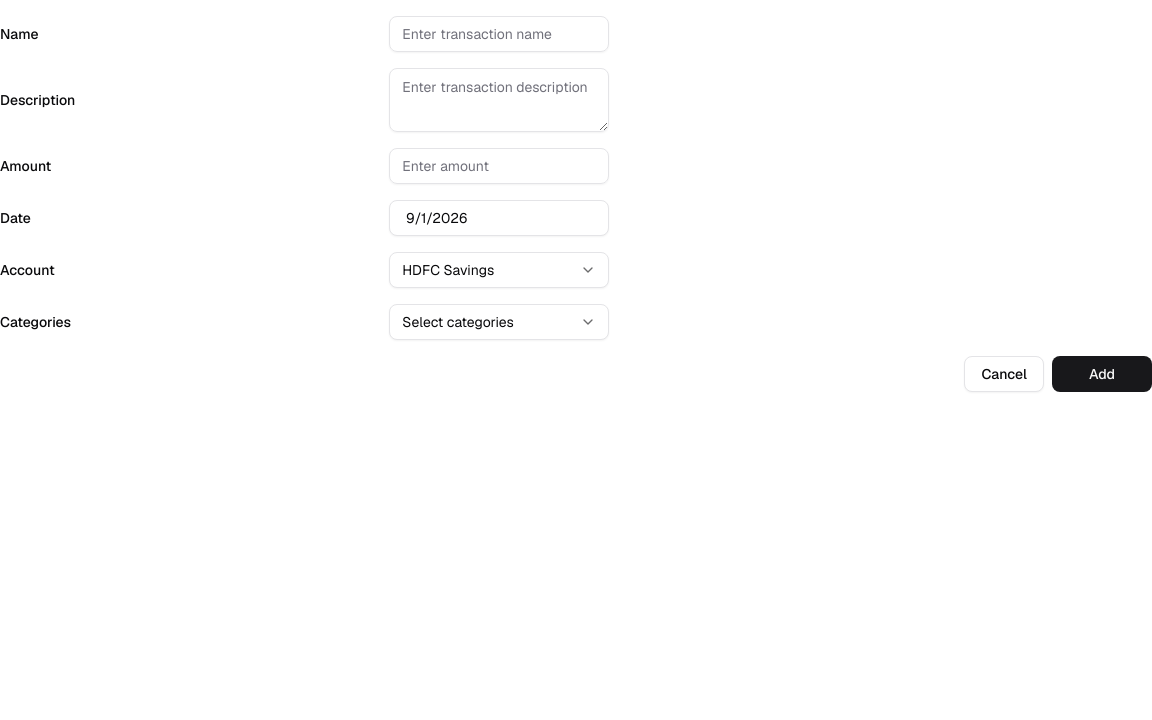
it: TransactionForm › opens the add category dialog
Click the button "Select categories" at [499, 322], box [389,304,609,340]
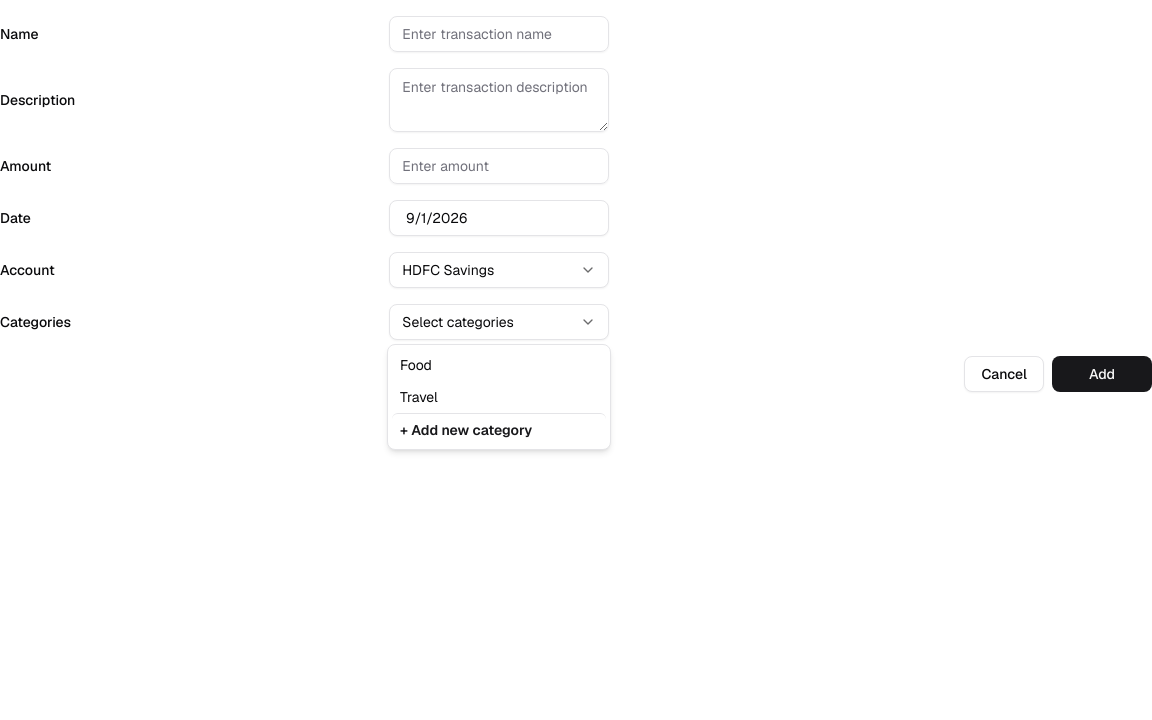
Click the menu item "+ Add new category" at [499, 429], box [392,413,606,445]
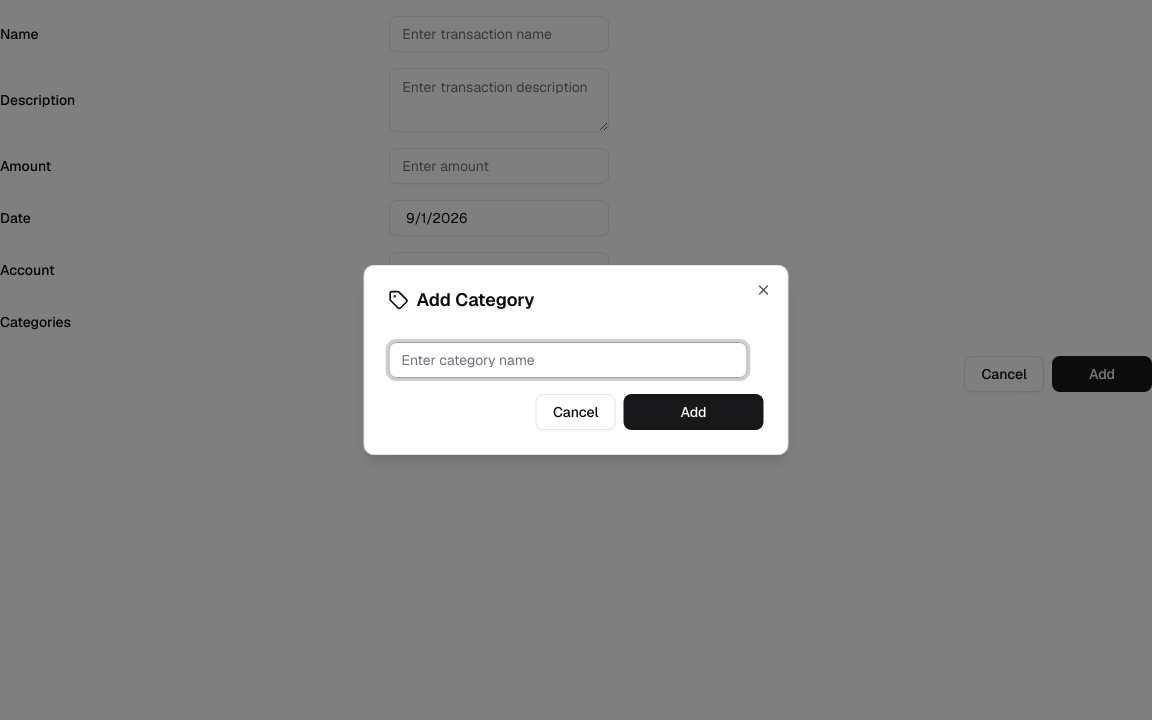
Now the dialog "Add Category" is shown, box [364,265,788,455]
